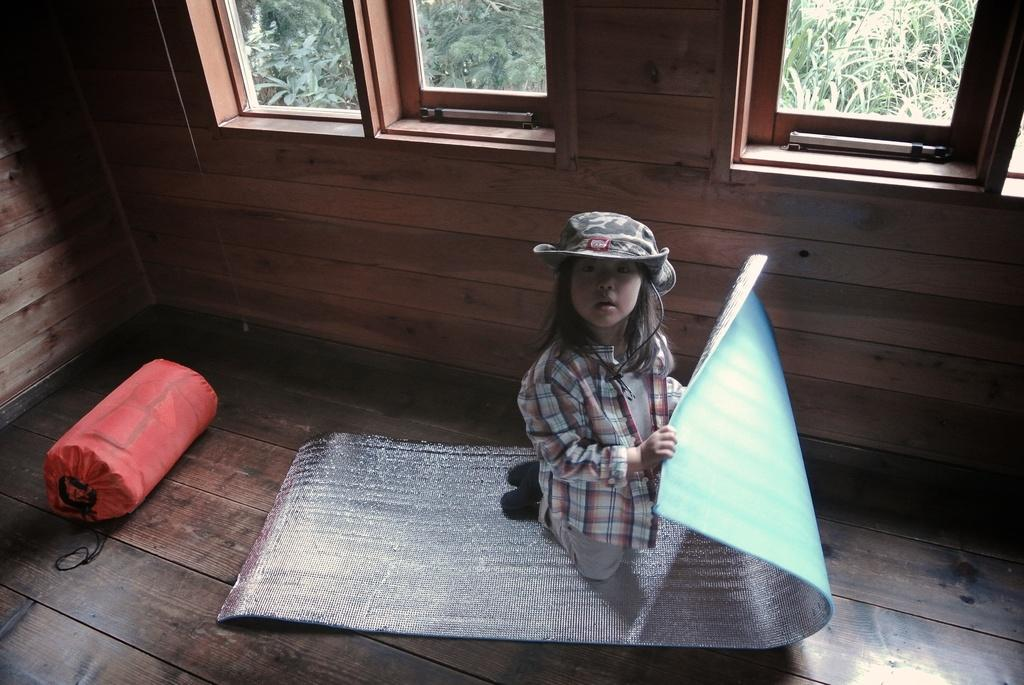Hat: (532, 208, 676, 298)
